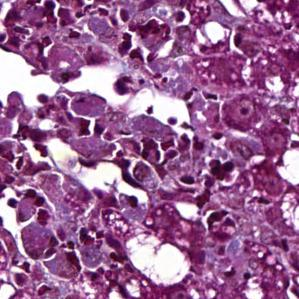ballooning: (122, 232, 193, 290)
